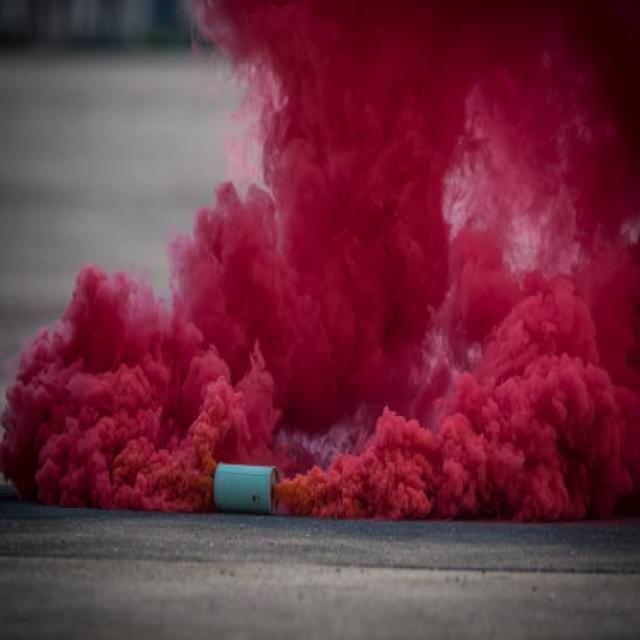grenade: (209, 451, 288, 522)
